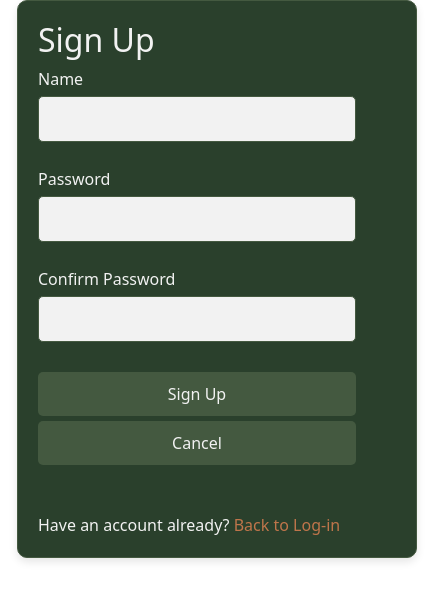
Test: displays error message from JSON response on failed registration
Type "testUser" into the field with test id "signup-username" at (197, 119), box [38,96,356,142]
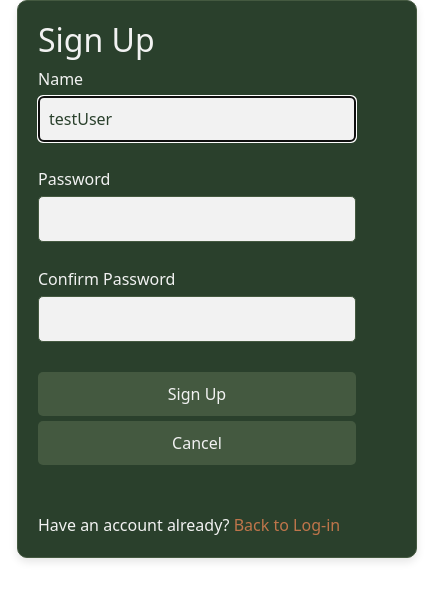
Type "testPass123" into the password field with test id "signup-password" at (197, 219), box [38,196,356,242]
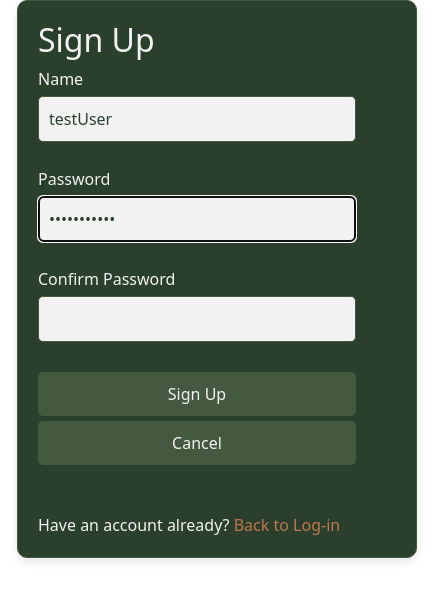
Type "testPass123" into the password field with test id "signup-password-confirm" at (197, 319), box [38,296,356,342]
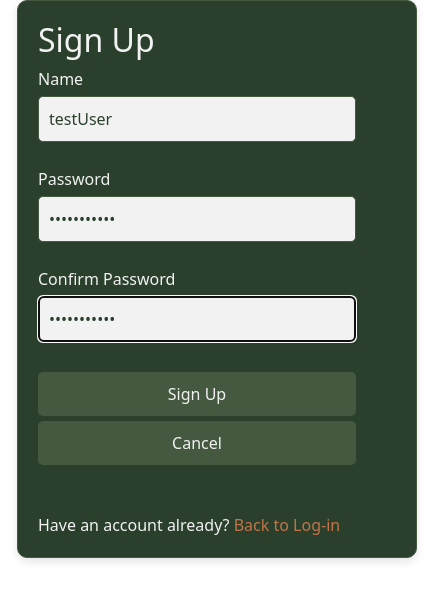
Click the button "Sign Up" at (197, 394), box [38,372,356,416]
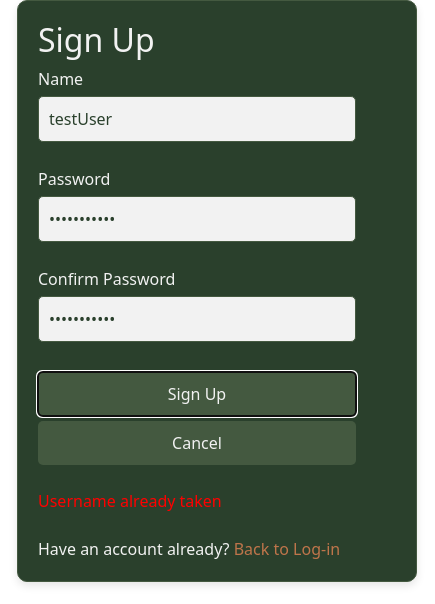
Expected: the text "Username already taken" is shown, [38,490,222,512]
